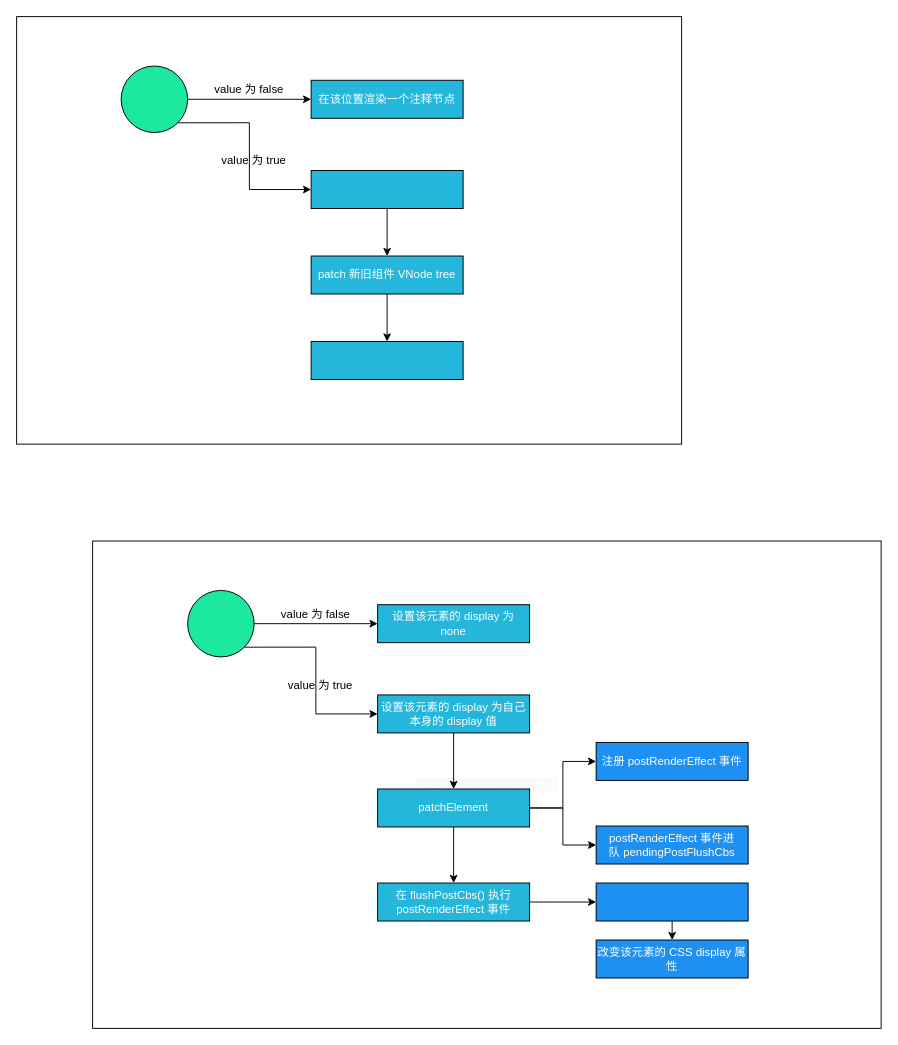
The diagram is 898 pixels wide and 1045 high, and some of its shapes have lost their labels. The box of each missing label's shape, as (x1, y1, x2, y2) in pixels:
v-if 元素: (120, 65, 188, 133)
v-show 元素: (187, 589, 254, 657)
执行 vShow 定义的 update hook: (595, 882, 748, 921)
更新 v-if 注释节点为真实元素: (310, 341, 463, 380)
触发派发更新逻辑: (310, 170, 463, 209)
